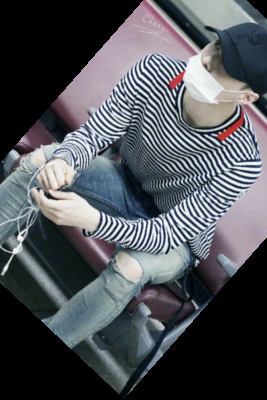mask_weared_incorrect: (178, 22, 267, 125)
